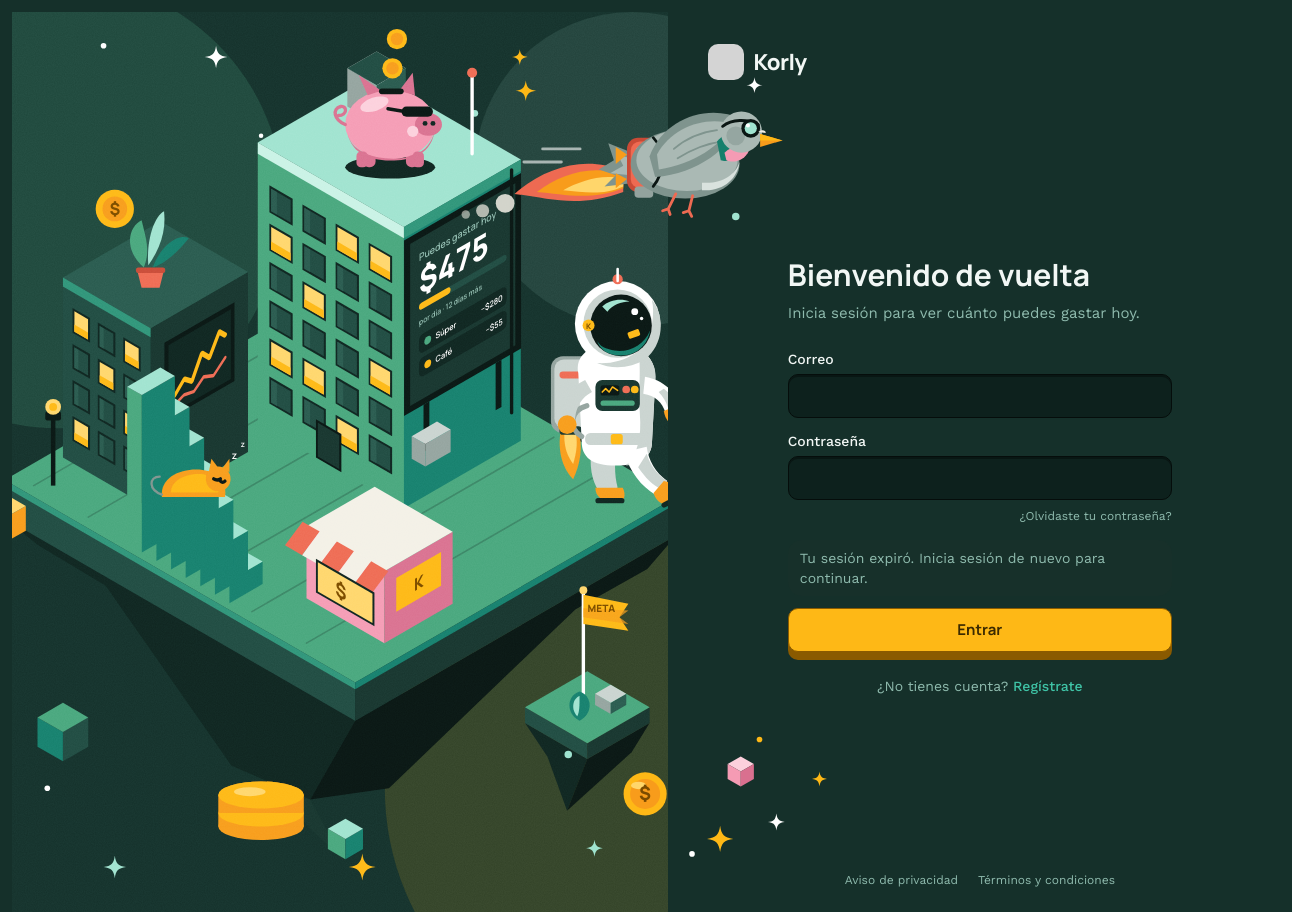
Test: Login — aviso de sesión expirada › si el inicio de sesión falla, muestra el error de Supabase y no el aviso de expiración
The image size is (1292, 912).
Type "yo@correo.com" into the field labelled "Correo" at x=980, y=396, box [788,374,1172,418]
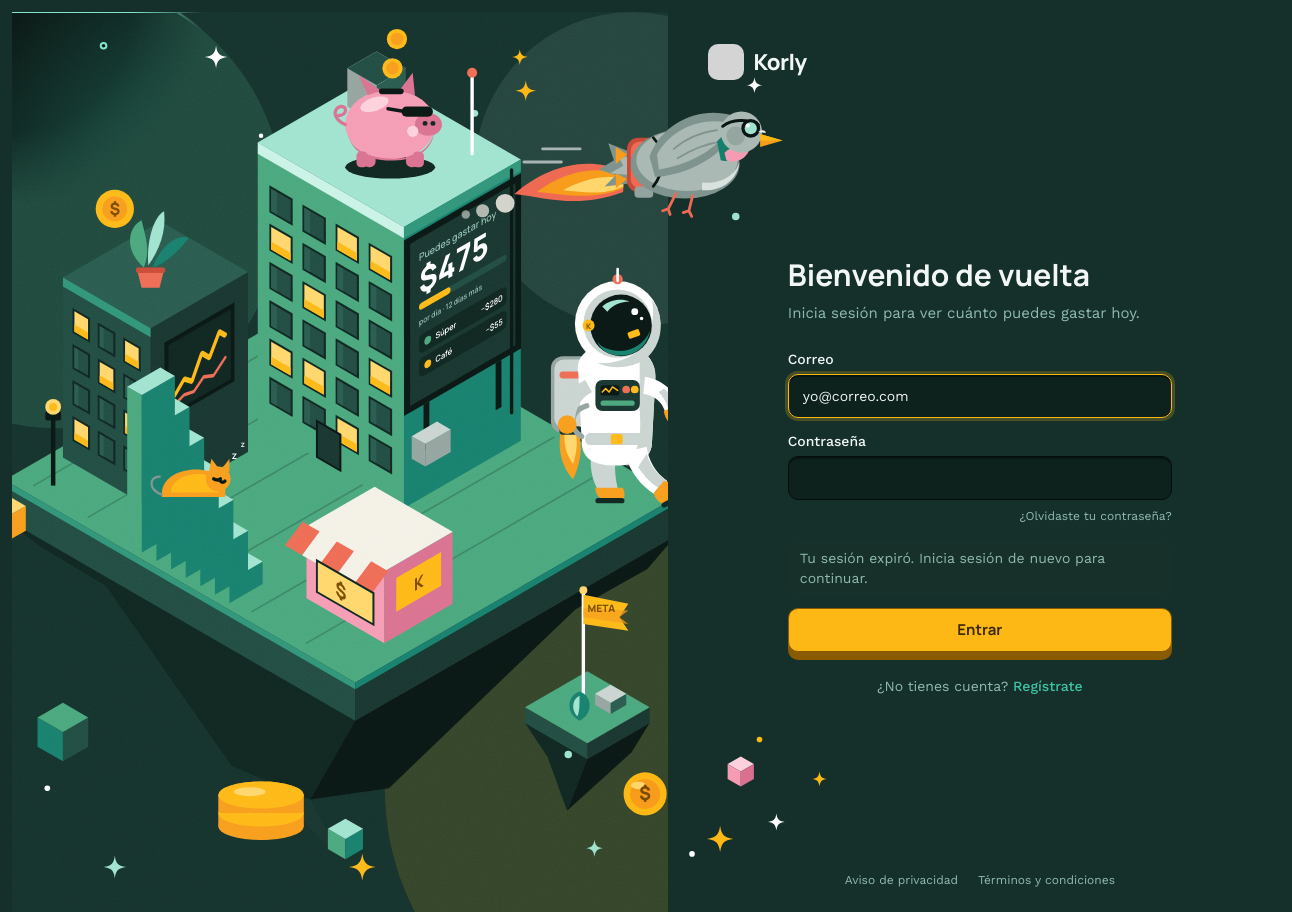
Type "mala" into the password field labelled "Contraseña" at x=980, y=478, box [788,456,1172,500]
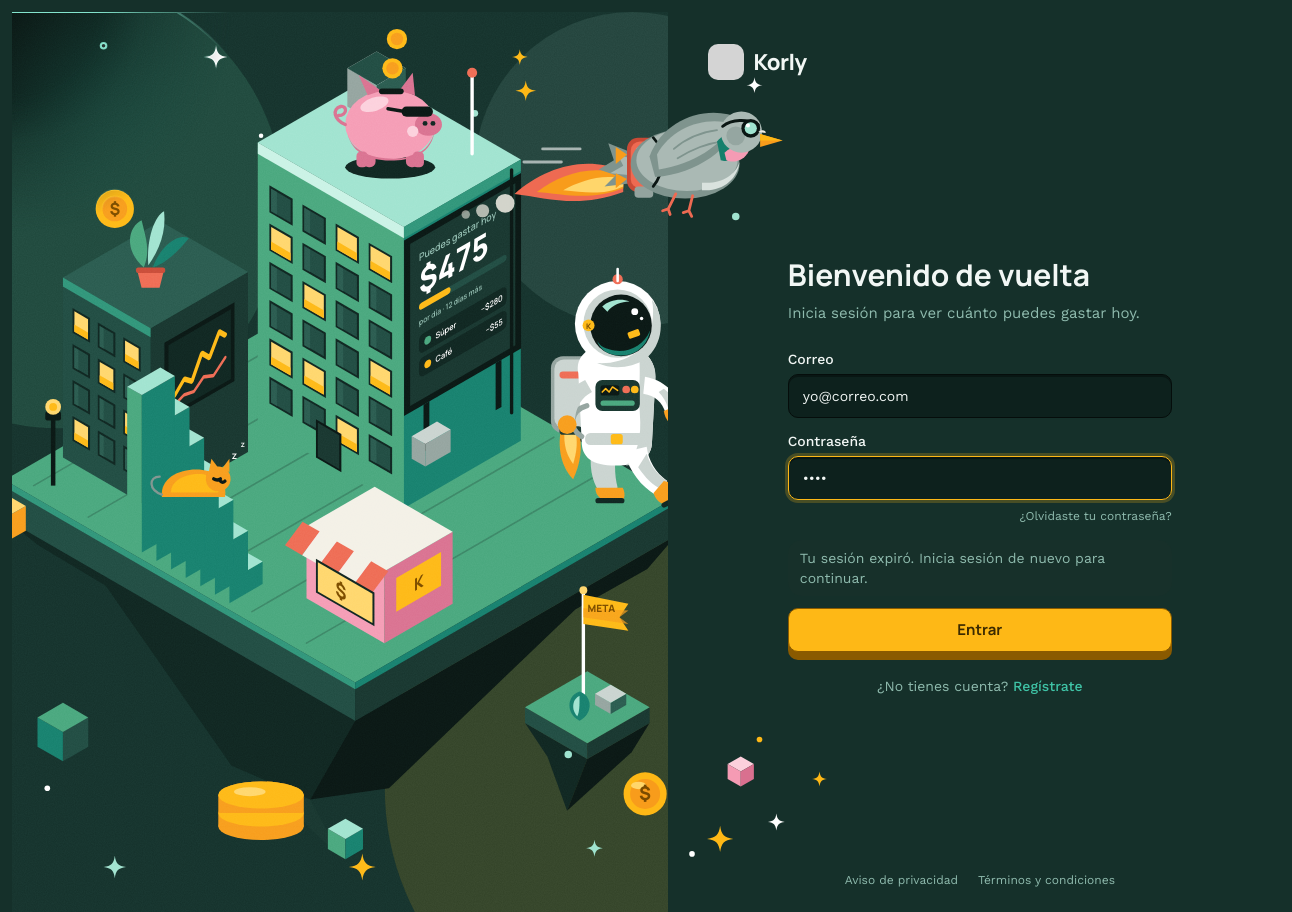
Click the button "Entrar" at x=980, y=634, box [788,612,1172,656]
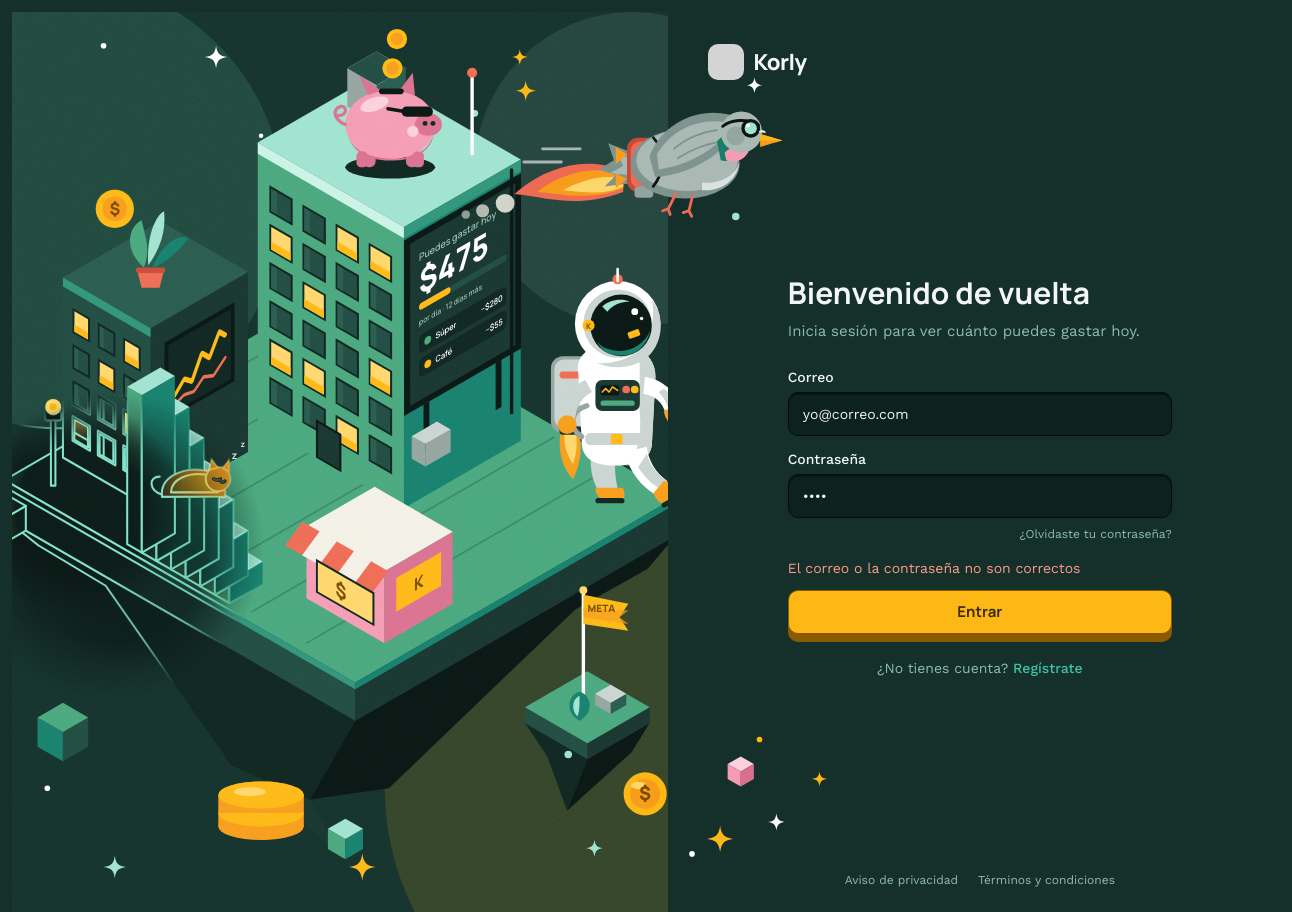
Check: the text "El correo o la contraseña no son correctos" is shown, box [788,560,1080,576]
Check: the text "Tu sesión expiró" is gone
